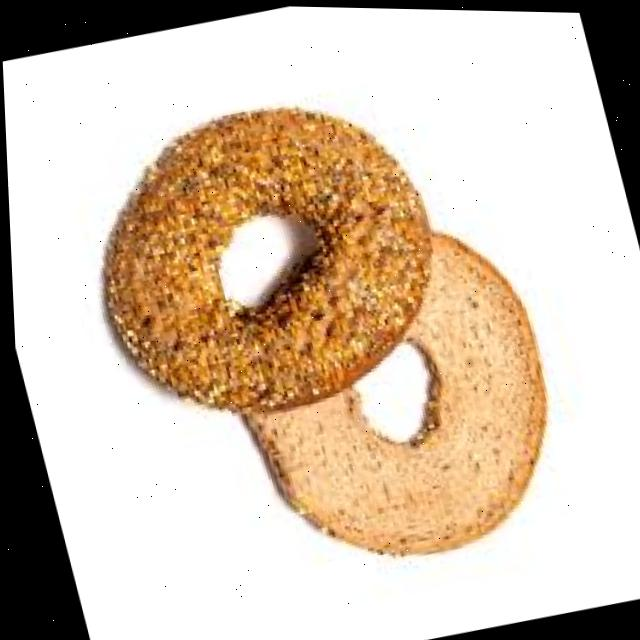Bagel: (103, 107, 428, 411), (243, 233, 541, 553)
